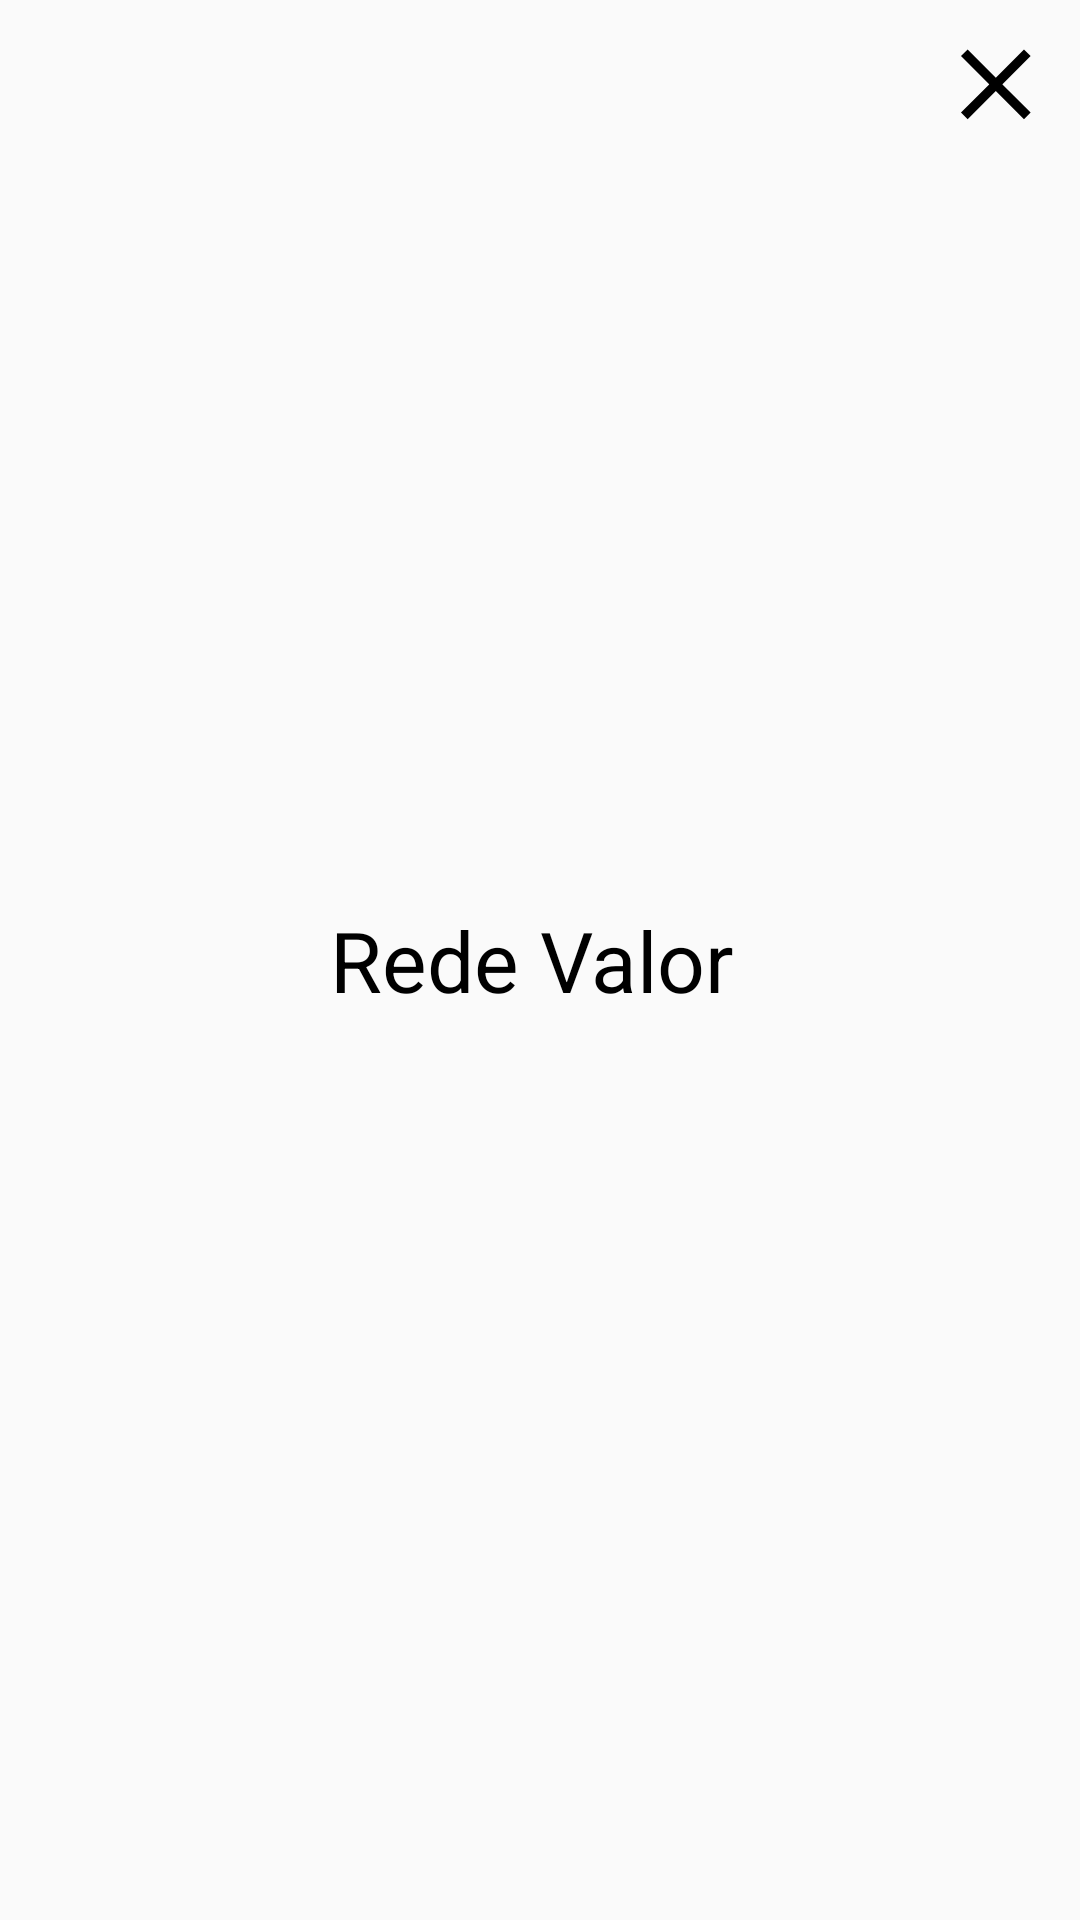

Named icons in this screenshot (1080x1920) and their centers, (x,y):
close: (996,84)
